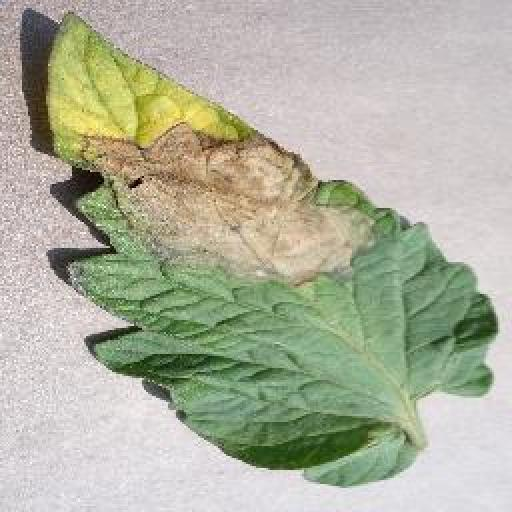disease_tomato: (47, 6, 500, 486)
